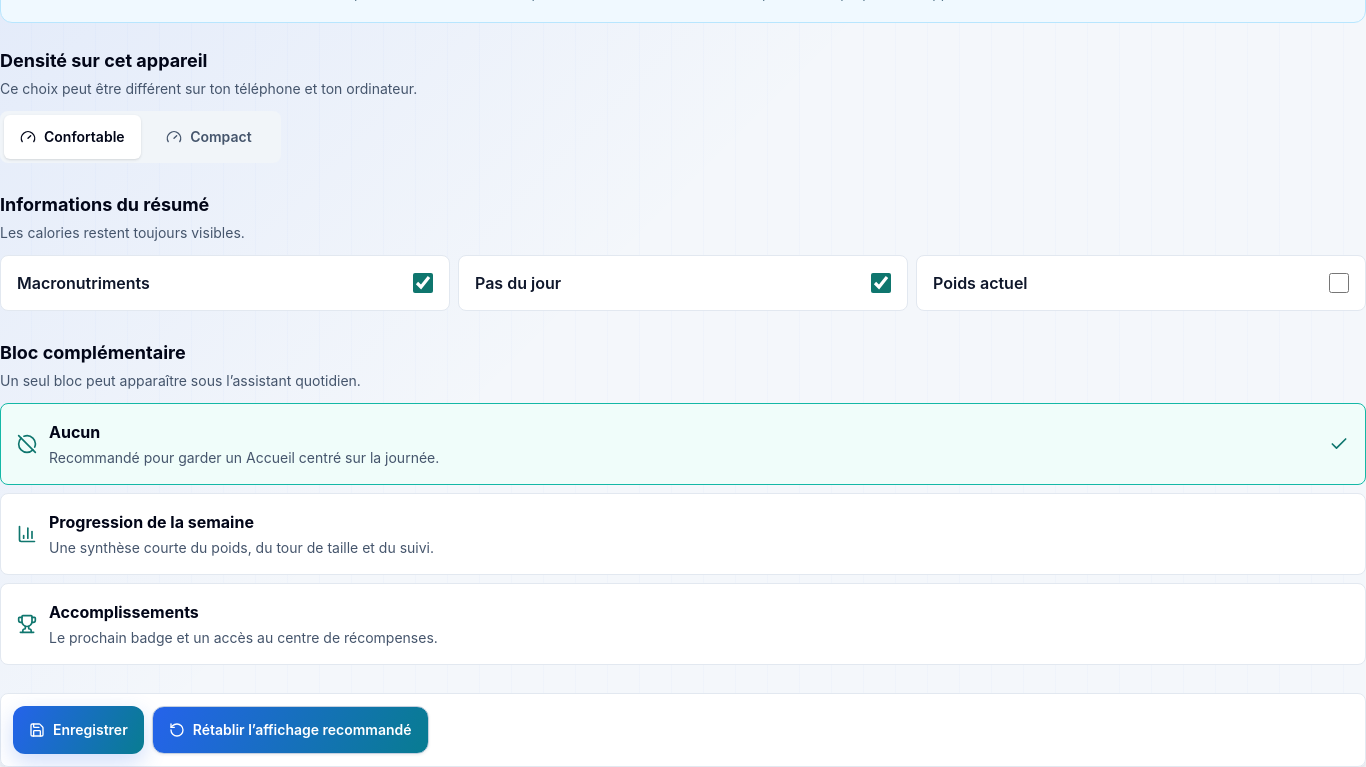
DashboardCustomizationPage › affiche une seule erreur locale lorsque l’enregistrement échoue
(page scrolled)
Click the button "Enregistrer" at (78, 730), box [13, 706, 144, 754]
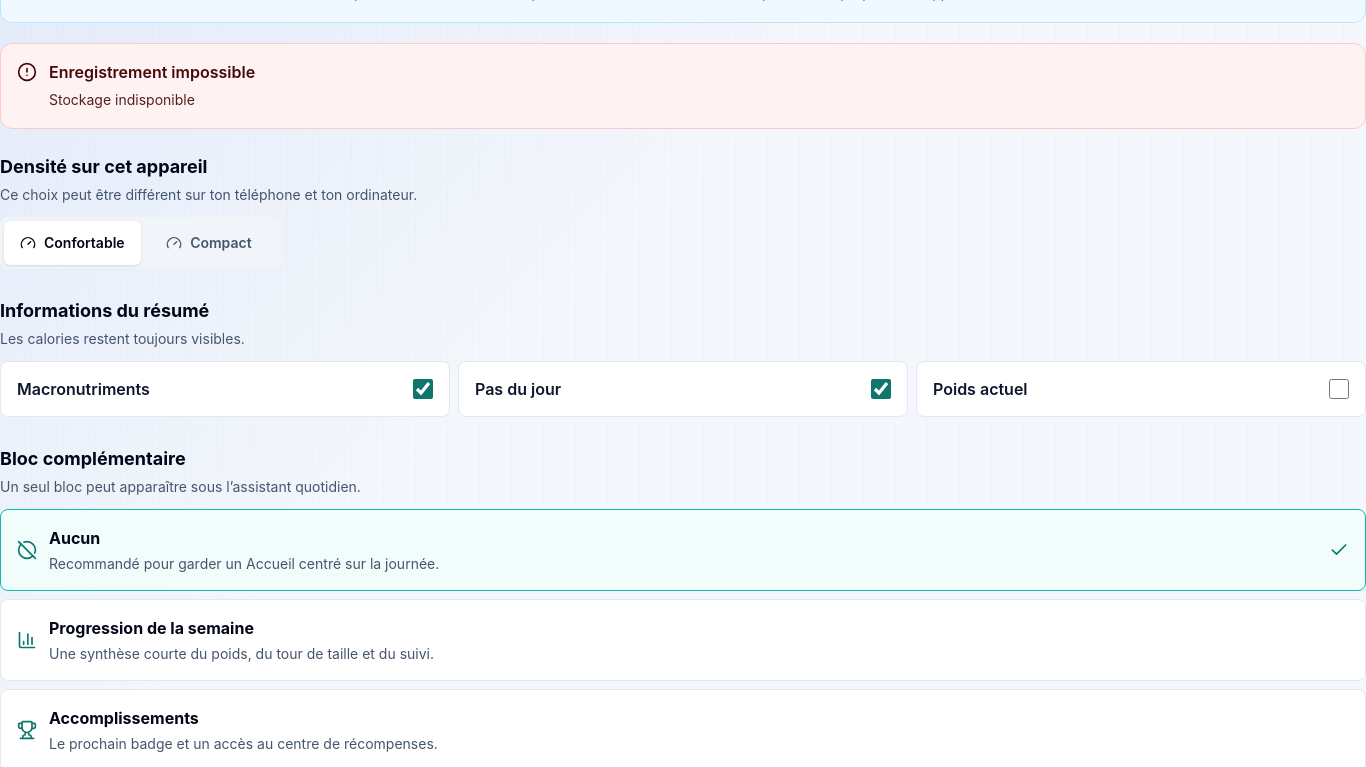
Expected: the number of messages is 1, [0, 43, 1365, 129]
Expected: the message shows "Stockage indisponible", [49, 91, 195, 108]
